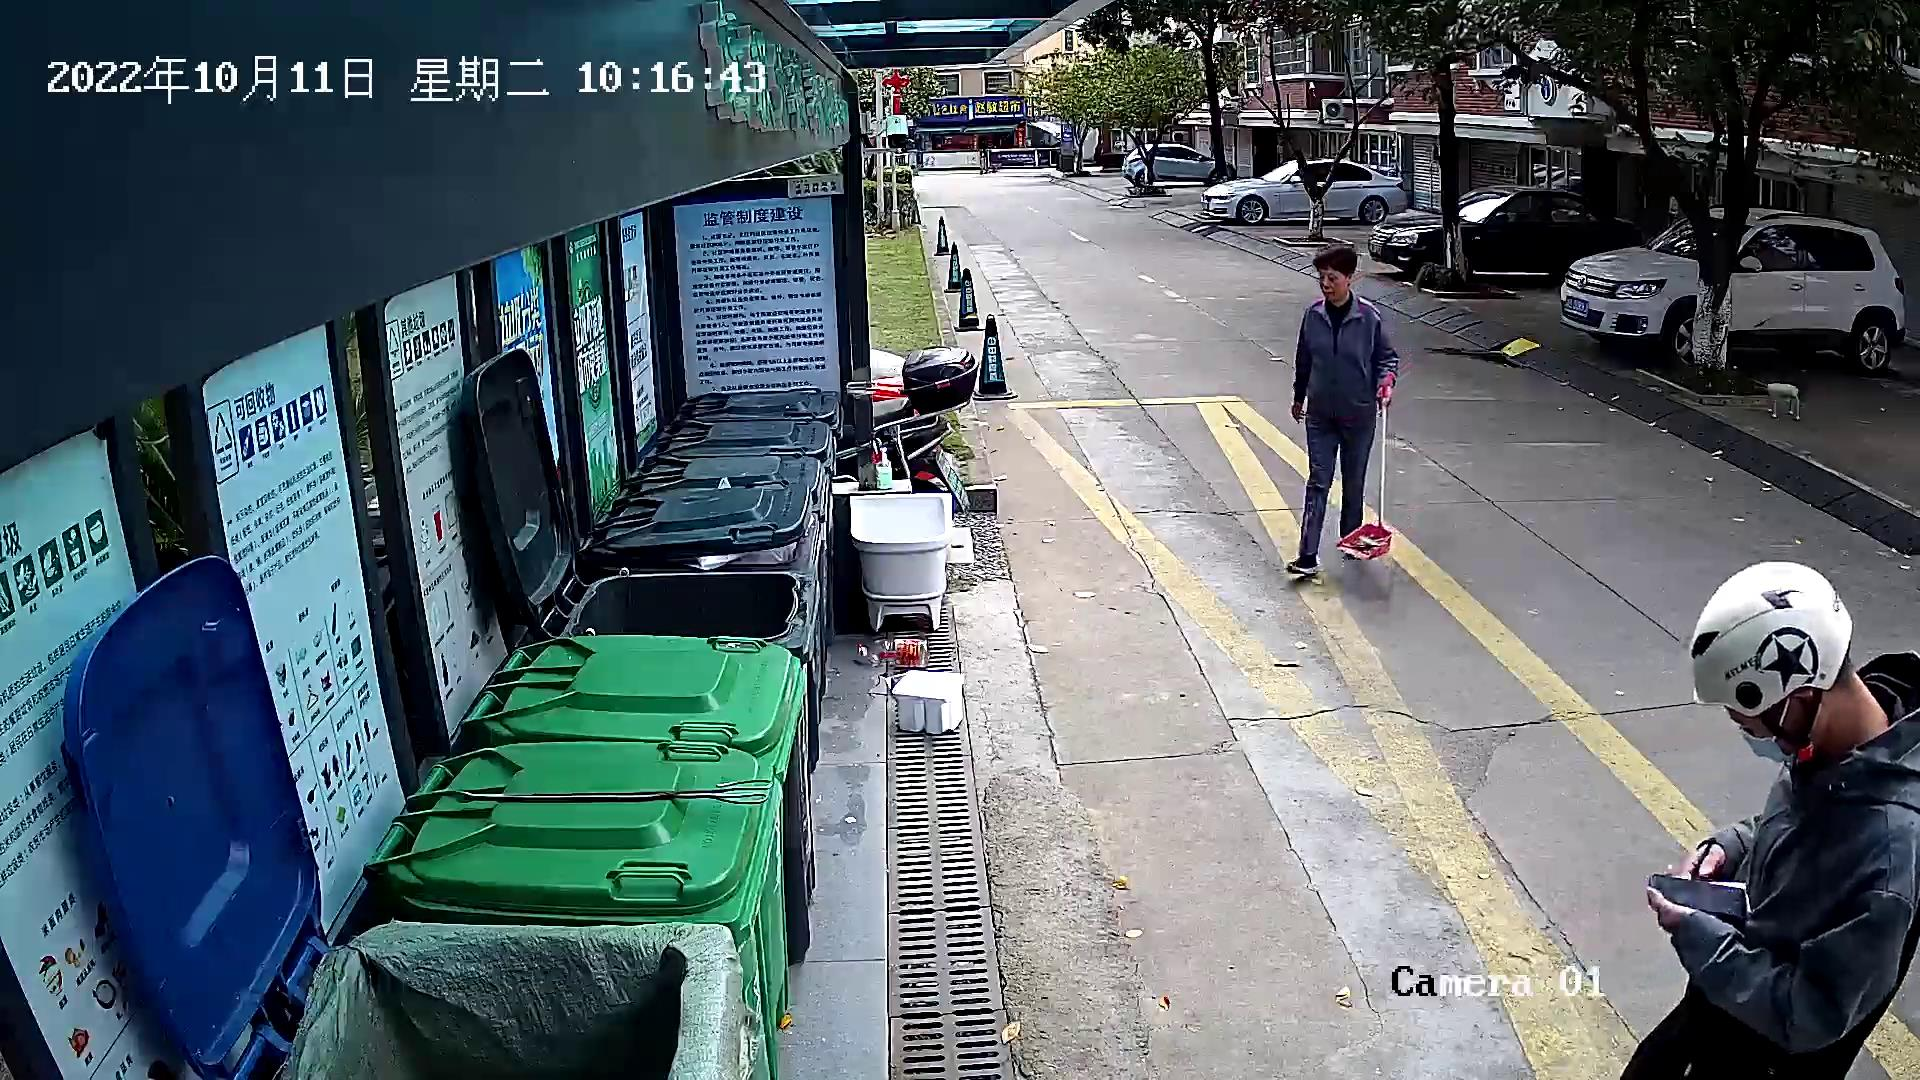paomozhipin: (886, 667, 972, 739)
person: (1609, 555, 1919, 1080), (1278, 236, 1412, 595)
suliaozhipin: (847, 631, 933, 673)
